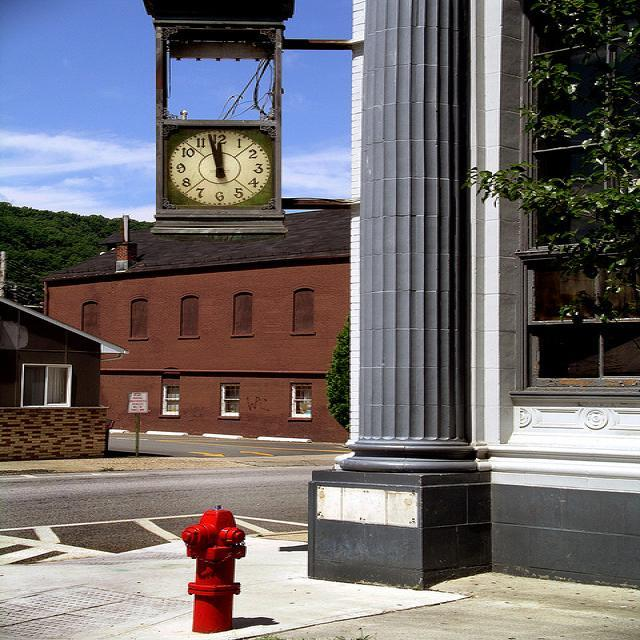fire_hydrant: (174, 505, 250, 632)
